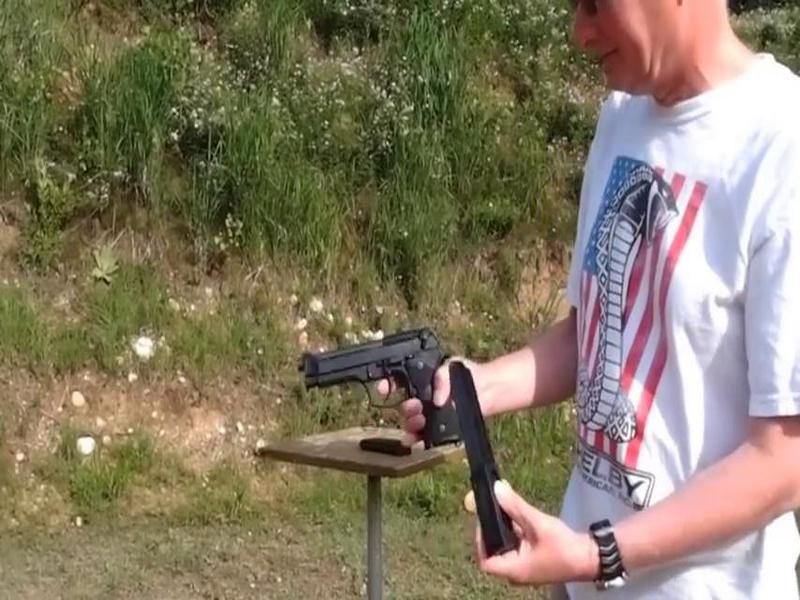Pistola: (292, 296, 477, 468)
